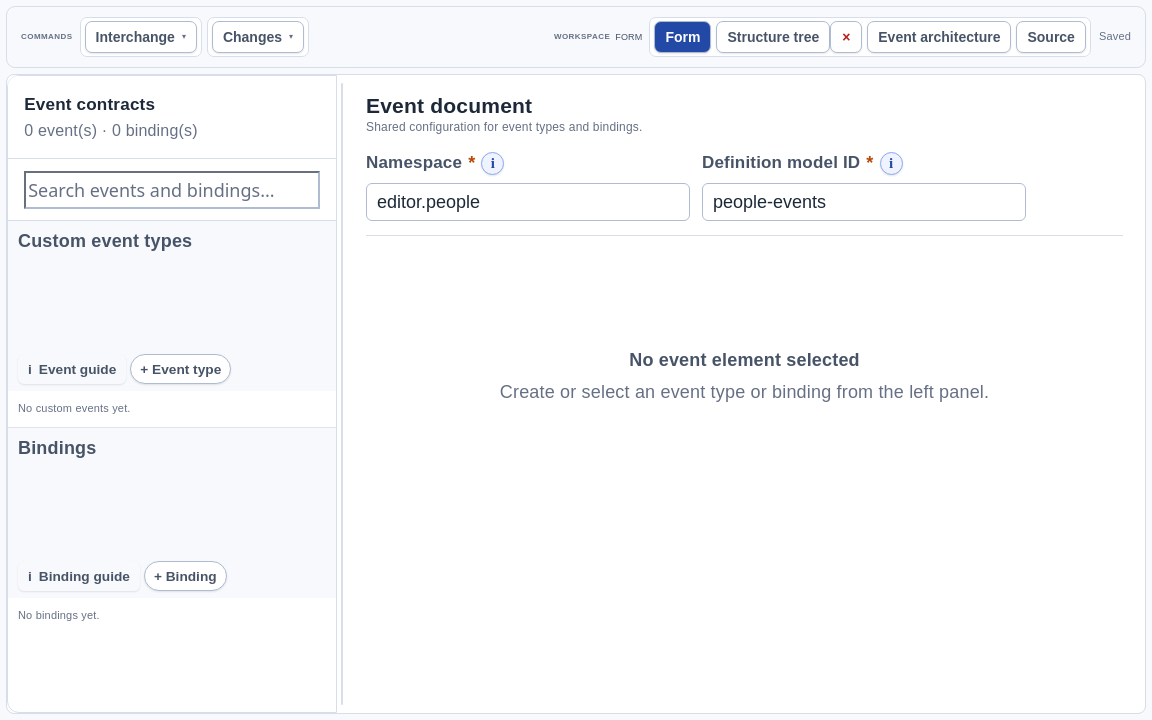
Test: event designer › opens the binding process guide from the left panel
Click the button "i Binding guide": click(79, 576) left=18, top=561, right=140, bottom=591
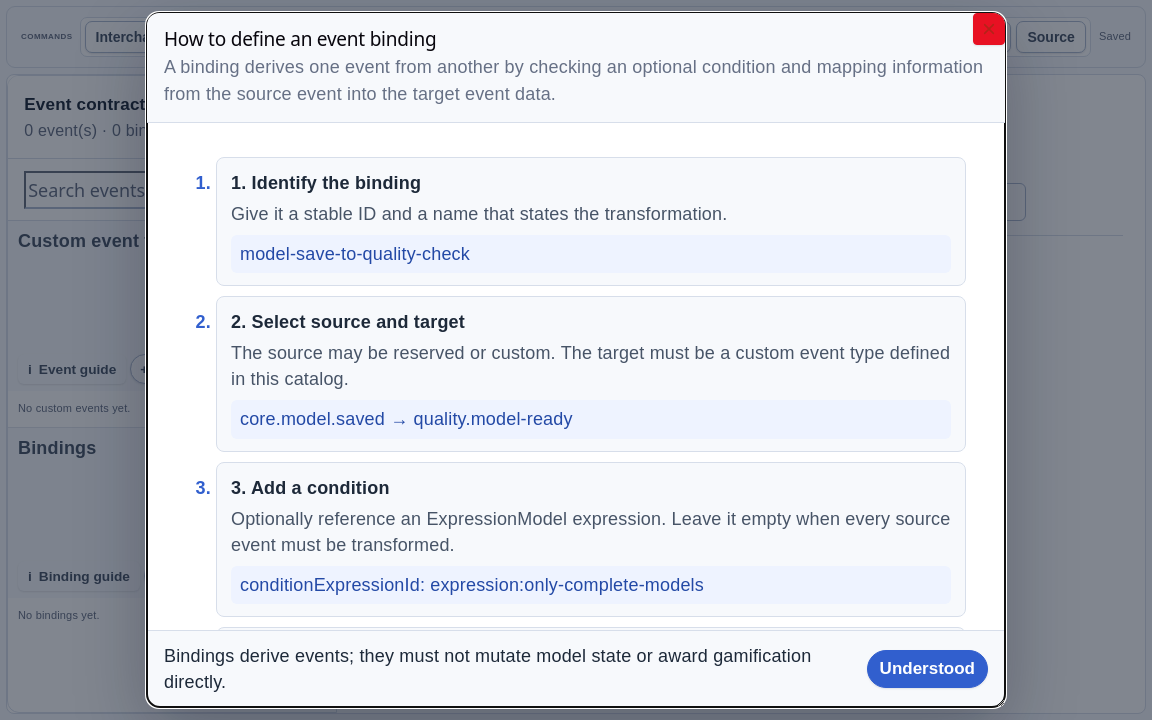
Result: the dialog shows "How to define an event binding" at left=164, top=26, right=436, bottom=52
